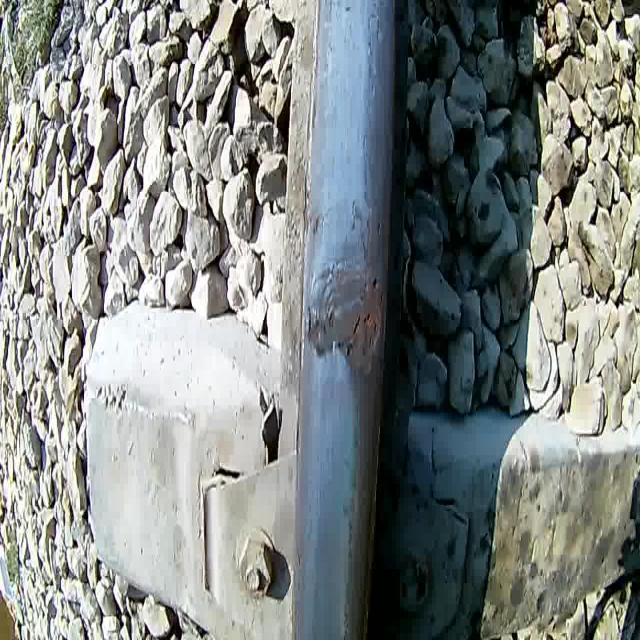Cracks: (304, 267, 338, 352)
Spallings: (343, 270, 391, 366)
Squats: (300, 257, 391, 380)
